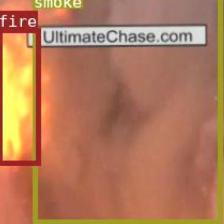fire: (0, 27, 40, 164)
smoke: (32, 0, 222, 224)
